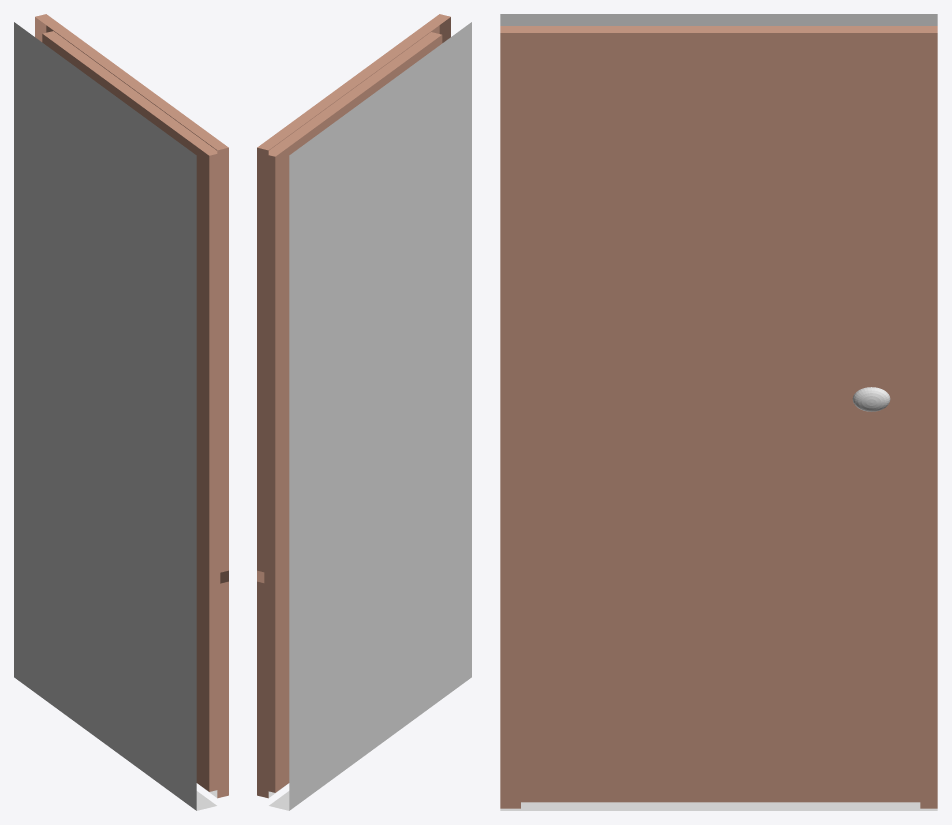
Rendered from Pintu.fbx.
3 renders of one model, left to right at view 1: azimuth 30°, elevation 25°; view 2: azimuth 150°, elevation 25°; view 3: azimuth 270°, elevation 25°, orthographic. The views are drawn at different scales.
Parts seen in each view (by area): view 1: Pintu; view 2: Pintu; view 3: Pintu.
Part boxes in pixels (x1=…): Pintu: x1=14, y1=14, x2=228, y2=810; Pintu: x1=257, y1=14, x2=471, y2=810; Pintu: x1=500, y1=14, x2=937, y2=810.
Size of the model in its own units: 80.77 by 1496 by 755.
